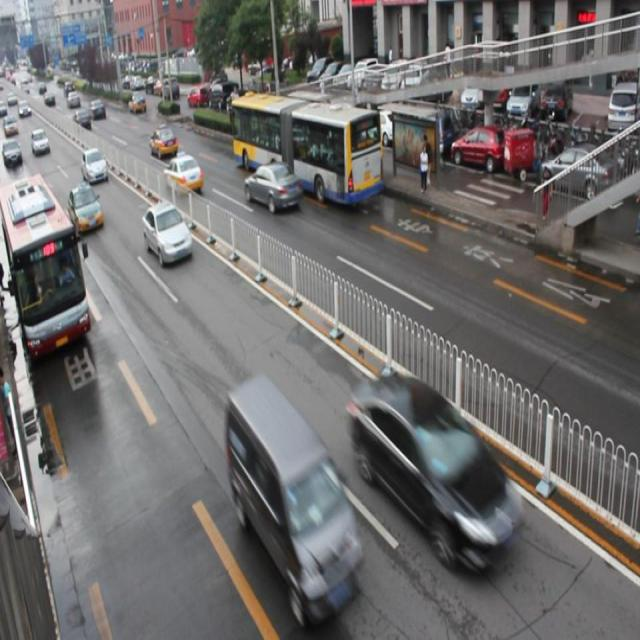car: (352, 376, 526, 577), (142, 202, 192, 264), (243, 162, 302, 211), (69, 183, 103, 232), (163, 153, 202, 194), (149, 124, 178, 158), (81, 150, 108, 182)
truck: (226, 379, 362, 609)
van: (230, 90, 382, 206), (1, 178, 91, 356)
